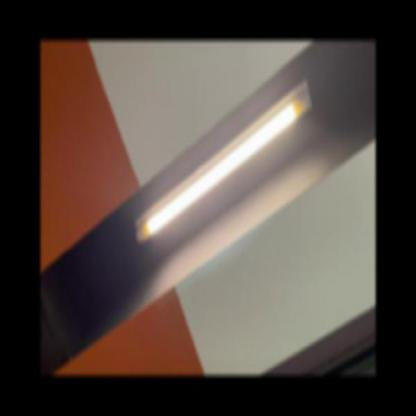light_on: (122, 70, 320, 260)
